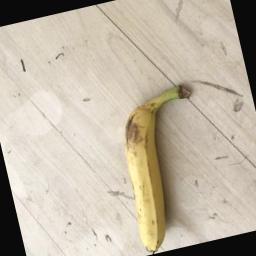Banana Ripe: (91, 67, 242, 256)
